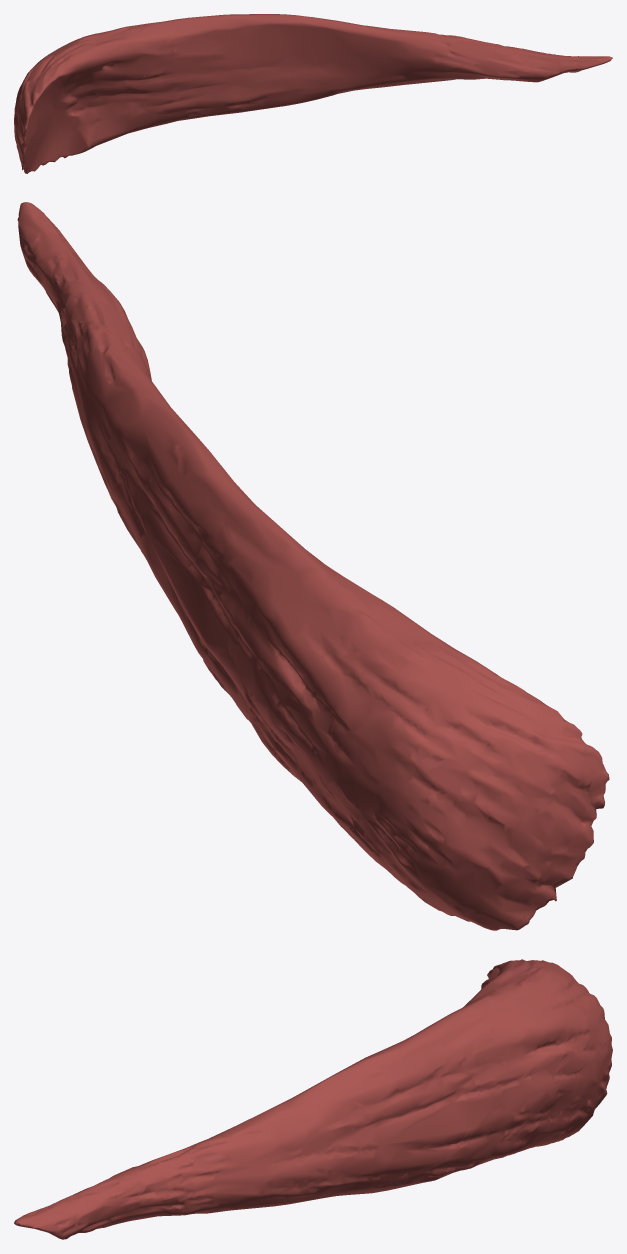
The model's file is FMA22337.glb.
3 renders of one model, top to bottom at view 1: azimuth 30°, elevation 25°; view 2: azimuth 150°, elevation 25°; view 3: azimuth 270°, elevation 25°, orthographic. The views are drawn at different scales.
Visible parts, largest first — view 1: FMA22337; view 2: FMA22337; view 3: FMA22337.
Boxes of the visible parts, <box> form: FMA22337: <box>14,14,612,173</box>; FMA22337: <box>17,202,609,930</box>; FMA22337: <box>14,959,612,1239</box>.
Bounding box in the file's own units: 0.0704 × 0.0225 × 0.0527.
